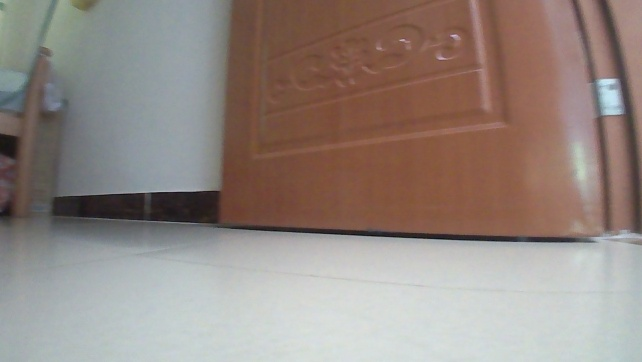bed: (0, 44, 59, 224)
door_anno: (210, 0, 641, 260)
